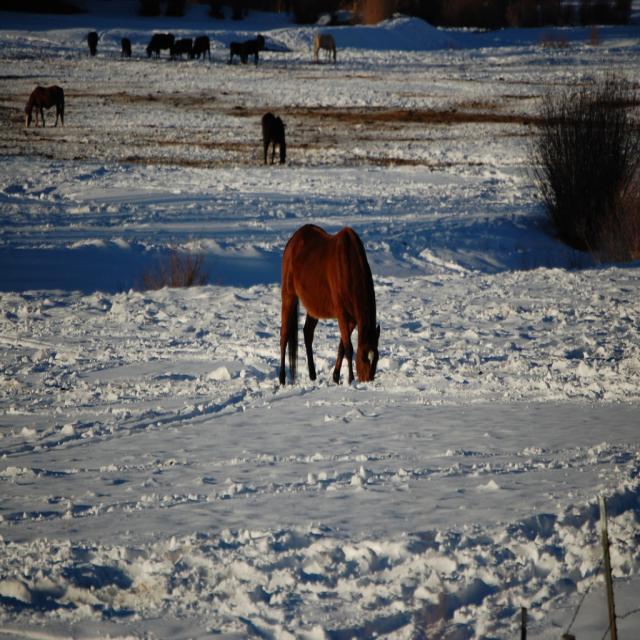Horse: (274, 215, 382, 388), (22, 82, 66, 130), (260, 108, 289, 165), (314, 33, 338, 65)
